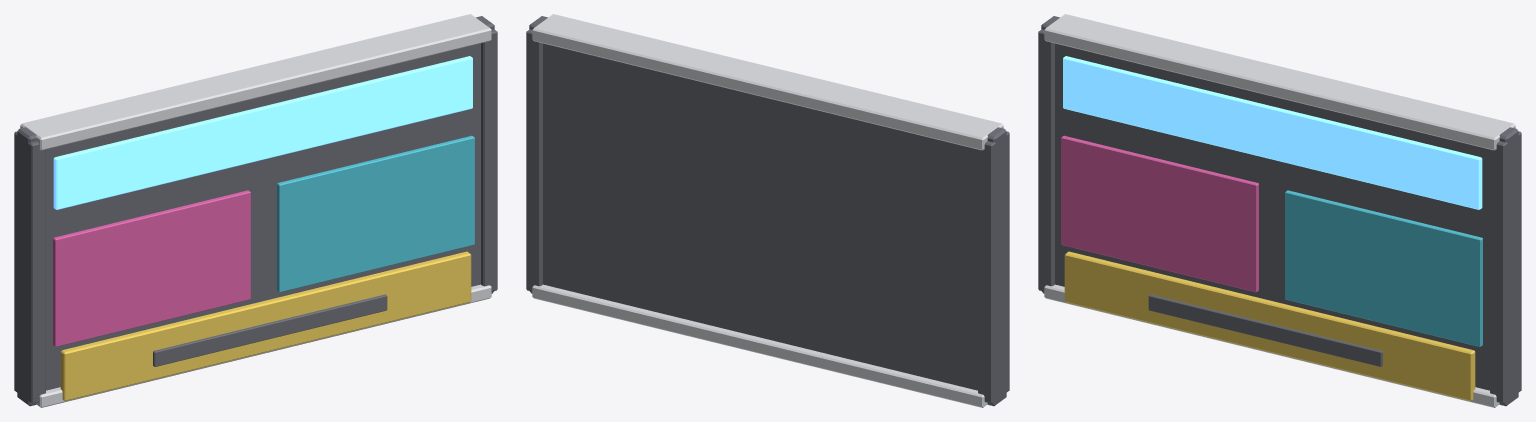
The model's file is laser-tag-arena-and-activity-centre-scoreboard-wall-fr-b2654443.glb.
3 renders of one model, left to right at view 1: azimuth 30°, elevation 25°; view 2: azimuth 150°, elevation 25°; view 3: azimuth 330°, elevation 25°, orthographic.
Parts seen in each view (by area): view 1: scoreboard-wall-frame, flap, flap/dark; view 2: scoreboard-wall-frame; view 3: scoreboard-wall-frame, flap, flap/dark.
Part boxes in pixels (x1,y1,x2,y2): scoreboard-wall-frame: (14, 14, 497, 407); flap: (60, 251, 471, 400); flap/dark: (153, 294, 387, 366); scoreboard-wall-frame: (526, 14, 1009, 407); scoreboard-wall-frame: (1038, 14, 1521, 407); flap: (1064, 251, 1475, 400); flap/dark: (1148, 294, 1382, 366).
Size of the model in its own units: 1.9 by 1.05 by 0.182.
